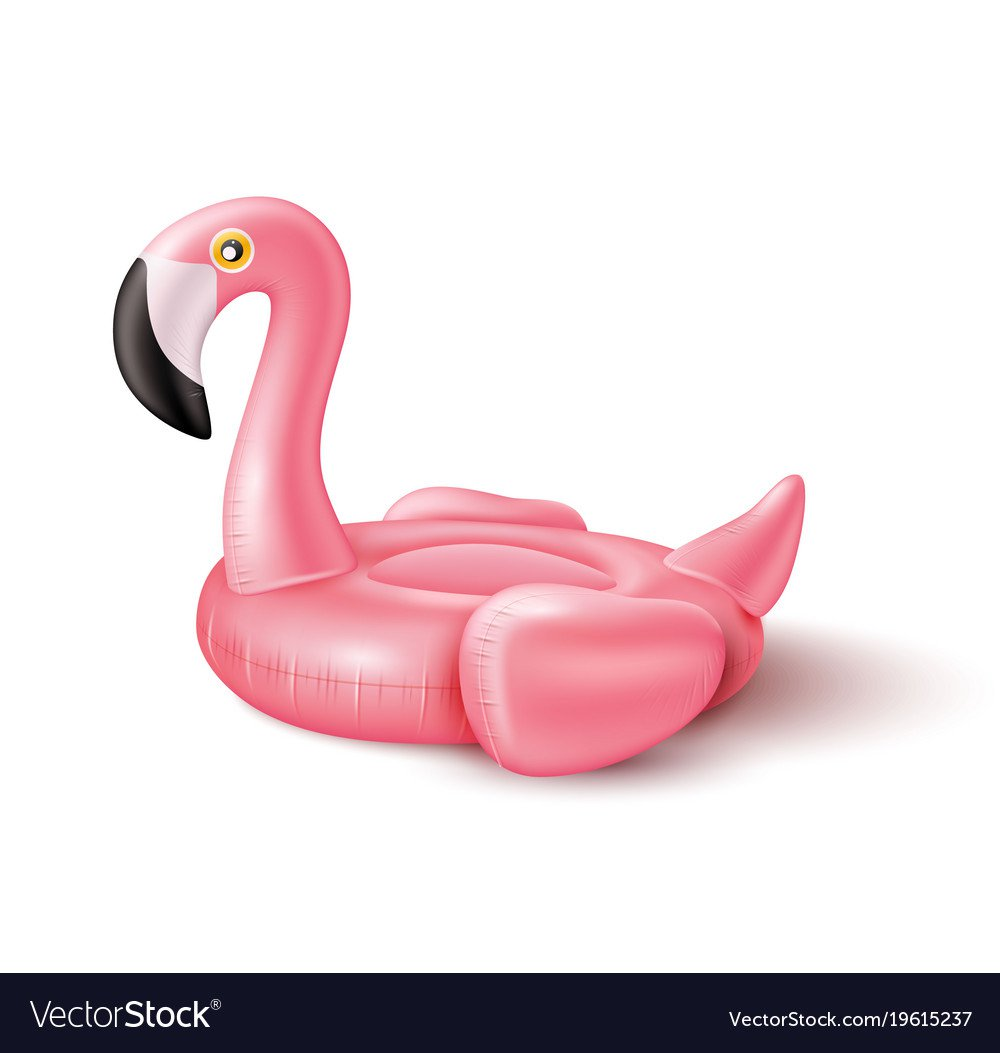Flamingo: (109, 195, 815, 786)
